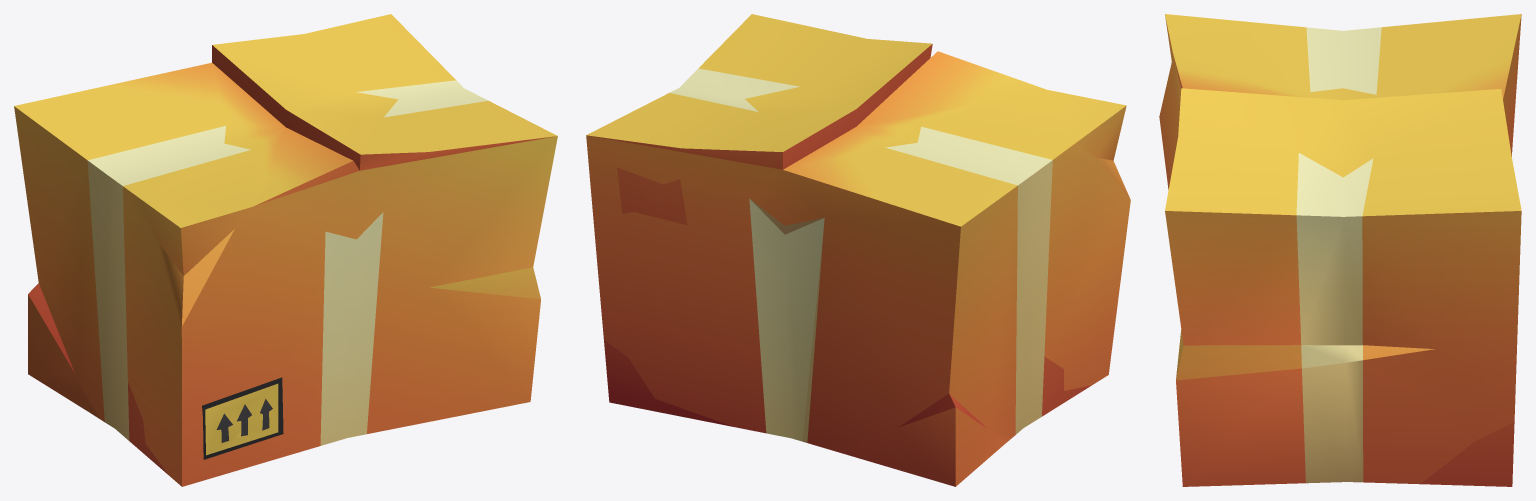
File: cardboard_a.fbx
The picture shows the model from 3 angles, left to right: view 1: azimuth 30°, elevation 25°; view 2: azimuth 150°, elevation 25°; view 3: azimuth 270°, elevation 25°; orthographic projection. The views are drawn at different scales.
Parts seen in each view (by area): view 1: cardboard1; view 2: cardboard1; view 3: cardboard1.
Boxes of the visible parts, left/top/right/bottom form: cardboard1: left=14, top=14, right=557, bottom=486; cardboard1: left=586, top=14, right=1130, bottom=486; cardboard1: left=1159, top=14, right=1521, bottom=486.
Bounding box in the file's own units: 67.53 × 49.31 × 52.29.
